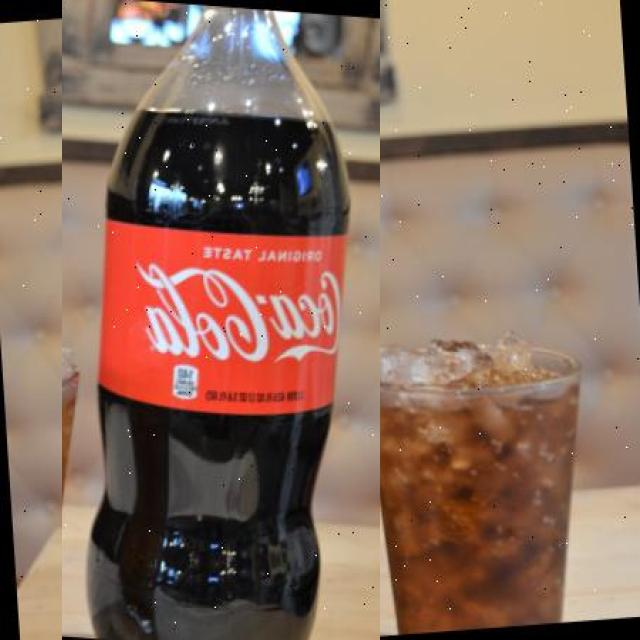coca-cola: (62, 0, 380, 640)
